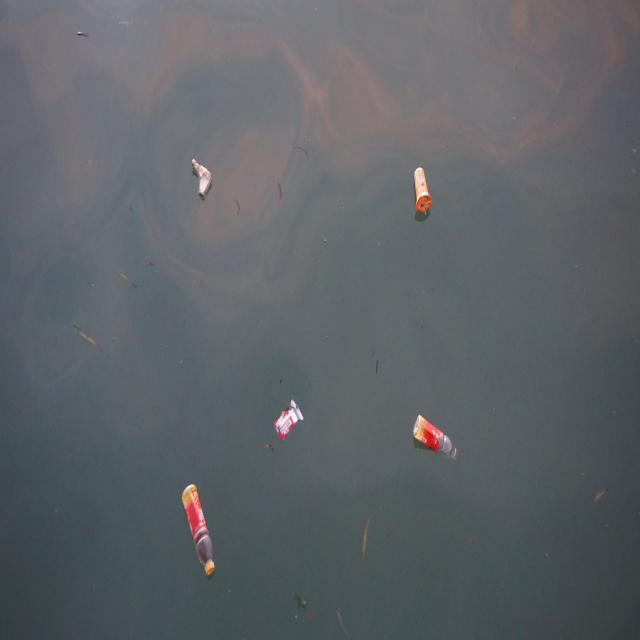Botol Plastik: (178, 477, 221, 590), (410, 412, 461, 467)
Bungkus Makanan: (274, 398, 305, 445)
Bungkus Minuman: (411, 162, 435, 218)
